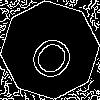O: (25, 25, 84, 85)
